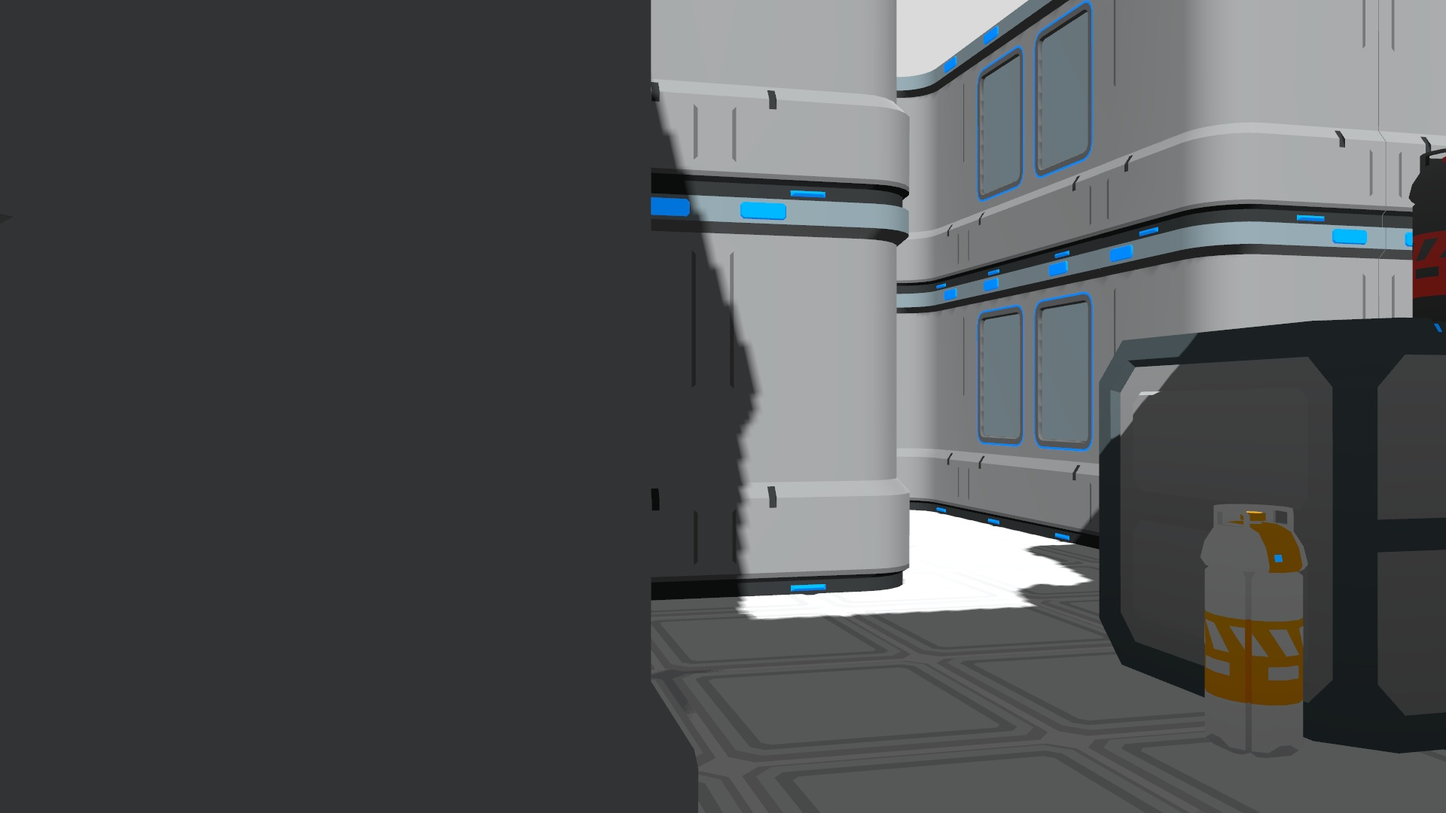red_barrel: (1409, 145, 1444, 320)
yellow_barrel: (1199, 497, 1312, 762)
